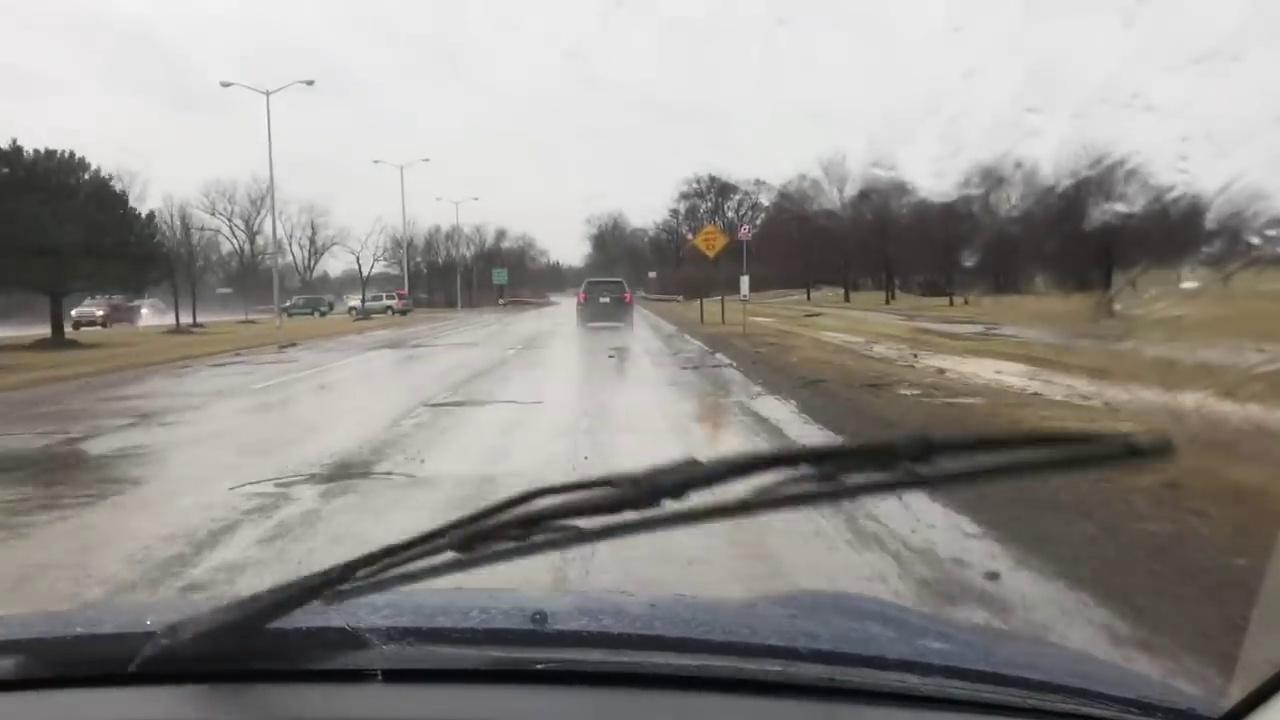pothole: (224, 465, 414, 497)
